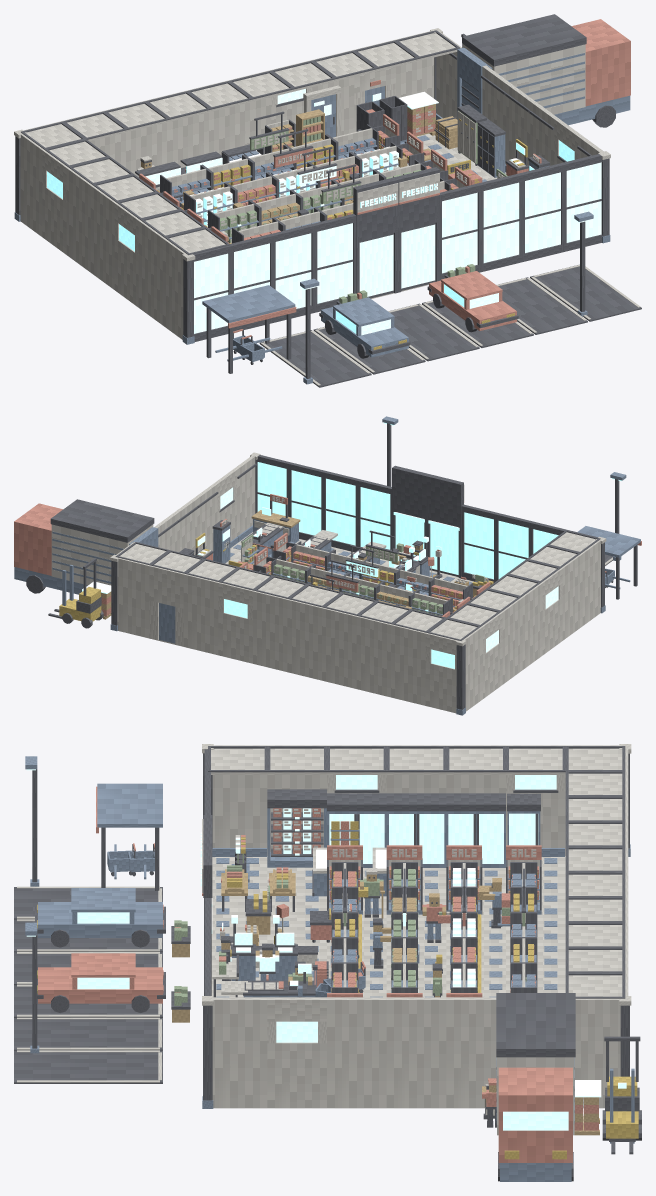
Rendered from supermarket.glb.
3 renders of one model, top to bottom at view 1: azimuth 30°, elevation 25°; view 2: azimuth 150°, elevation 25°; view 3: azimuth 270°, elevation 25°, orthographic. The views are drawn at different scales.
Visible parts, largest first — view 1: 240-delivery-lorry/5, 240-delivery-lorry/4, 240-delivery-lorry/1, 230-car-park-bay-tile/0, 077-shopfront-glass-bay/1, 225-car-park-bay-tile/0, 078-shopfront-glass-bay/1, 231-customer-car/0, 232-customer-car-red/0, 073-shopfront-glass-bay/1, 076-shopfront-glass-bay/1, 229-car-park-bay-tile/0 (+76 smaller); view 2: 240-delivery-lorry/4, 087-wall-bay-plain/0, 240-delivery-lorry/5, 081-wall-bay-plain/0, 084-wall-bay-plain/0, 082-wall-bay-plain/0, 085-wall-bay-plain/0, 083-wall-bay-plain/0, 240-delivery-lorry/1, 089-wall-bay-plain/0, 086-wall-bay-window/0, 080-wall-bay-window/0 (+55 smaller); view 3: 100-wall-bay-plain/0, 101-wall-bay-plain/0, 103-wall-bay-plain/0, 102-wall-bay-window/0, 240-delivery-lorry/1, 099-wall-bay-plain/0, 240-delivery-lorry/5, 232-customer-car-red/0, 231-customer-car/0, 230-car-park-bay-tile/0, 229-car-park-bay-tile/0, 096-wall-bay-plain/0 (+69 smaller).
Part boxes in pixels (x1=…): 240-delivery-lorry/5: x1=462, y1=14, x2=586, y2=66; 240-delivery-lorry/4: x1=463, y1=44, x2=585, y2=114; 240-delivery-lorry/1: x1=571, y1=19, x2=630, y2=106; 230-car-park-bay-tile/0: x1=530, y1=264, x2=641, y2=321; 077-shopfront-glass-bay/1: x1=483, y1=182, x2=519, y2=262; 225-car-park-bay-tile/0: x1=259, y1=330, x2=371, y2=387; 078-shopfront-glass-bay/1: x1=525, y1=172, x2=560, y2=252; 231-customer-car/0: x1=321, y1=297, x2=408, y2=357; 232-customer-car-red/0: x1=429, y1=271, x2=516, y2=330; 073-shopfront-glass-bay/1: x1=317, y1=223, x2=352, y2=303; 076-shopfront-glass-bay/1: x1=442, y1=192, x2=477, y2=273; 229-car-park-bay-tile/0: x1=498, y1=277, x2=587, y2=334; 240-delivery-lorry/4: x1=51, y1=524, x2=153, y2=585; 087-wall-bay-plain/0: x1=183, y1=574, x2=218, y2=654; 240-delivery-lorry/5: x1=50, y1=499, x2=154, y2=542; 081-wall-bay-plain/0: x1=391, y1=624, x2=426, y2=705; 084-wall-bay-plain/0: x1=287, y1=599, x2=322, y2=680; 082-wall-bay-plain/0: x1=356, y1=616, x2=391, y2=697; 085-wall-bay-plain/0: x1=253, y1=590, x2=287, y2=671; 083-wall-bay-plain/0: x1=322, y1=607, x2=356, y2=688; 240-delivery-lorry/1: x1=14, y1=503, x2=62, y2=575; 089-wall-bay-plain/0: x1=117, y1=558, x2=149, y2=638; 086-wall-bay-window/0: x1=218, y1=582, x2=253, y2=663; 080-wall-bay-window/0: x1=425, y1=633, x2=457, y2=712; 100-wall-bay-plain/0: x1=386, y1=997, x2=446, y2=1107; 101-wall-bay-plain/0: x1=327, y1=997, x2=386, y2=1107; 103-wall-bay-plain/0: x1=212, y1=997, x2=267, y2=1107; 102-wall-bay-window/0: x1=267, y1=997, x2=326, y2=1107; 240-delivery-lorry/1: x1=498, y1=1067, x2=572, y2=1162; 099-wall-bay-plain/0: x1=446, y1=997, x2=496, y2=1107; 240-delivery-lorry/5: x1=496, y1=993, x2=575, y2=1057; 232-customer-car-red/0: x1=38, y1=953, x2=163, y2=1003; 231-customer-car/0: x1=38, y1=888, x2=162, y2=937; 230-car-park-bay-tile/0: x1=14, y1=1050, x2=162, y2=1083; 229-car-park-bay-tile/0: x1=14, y1=1018, x2=162, y2=1050; 096-wall-bay-plain/0: x1=212, y1=745, x2=267, y2=855.
Bounding box in the file's own units: 27.16 × 5.26 × 21.06.
Materials: 8 (8 with a texture image).
